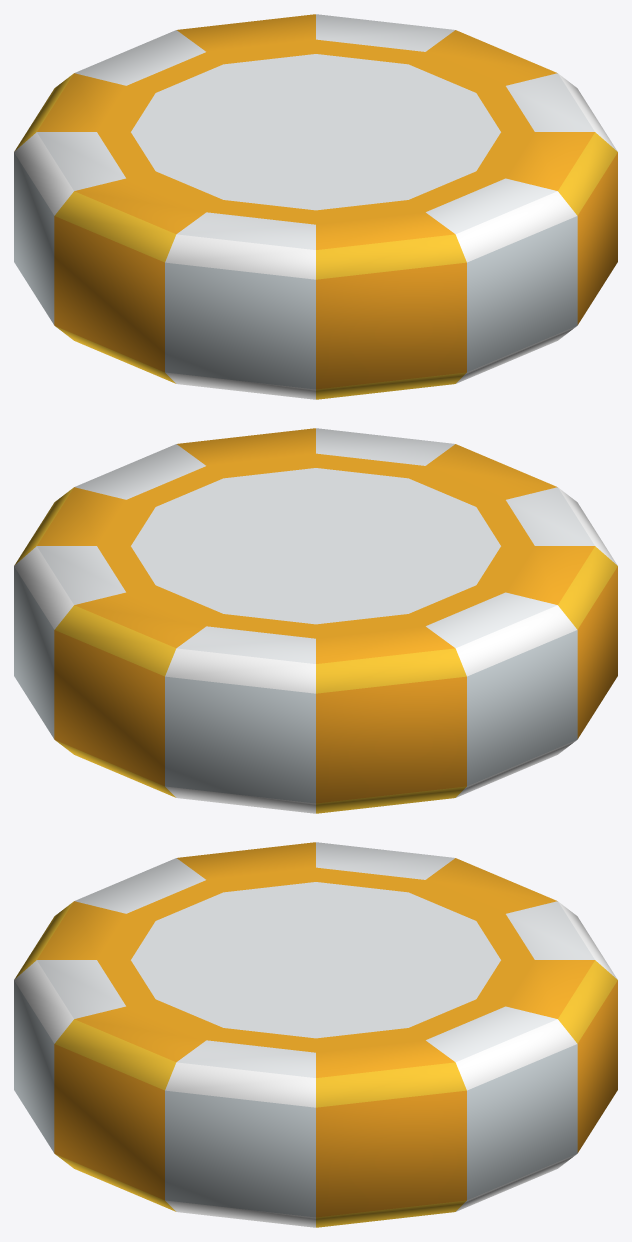
File: Chips_Y.fbx
The picture shows the model from 3 angles, top to bottom: view 1: azimuth 30°, elevation 25°; view 2: azimuth 150°, elevation 25°; view 3: azimuth 270°, elevation 25°; orthographic projection.
Parts seen in each view (by area): view 1: Chips_Y; view 2: Chips_Y; view 3: Chips_Y.
Part boxes in pixels (<box>): Chips_Y: <box>14,14,617,399</box>; Chips_Y: <box>14,428,617,813</box>; Chips_Y: <box>14,842,617,1227</box>.
Bounding box in the file's own units: 0.7047 × 0.7047 × 0.1927.
